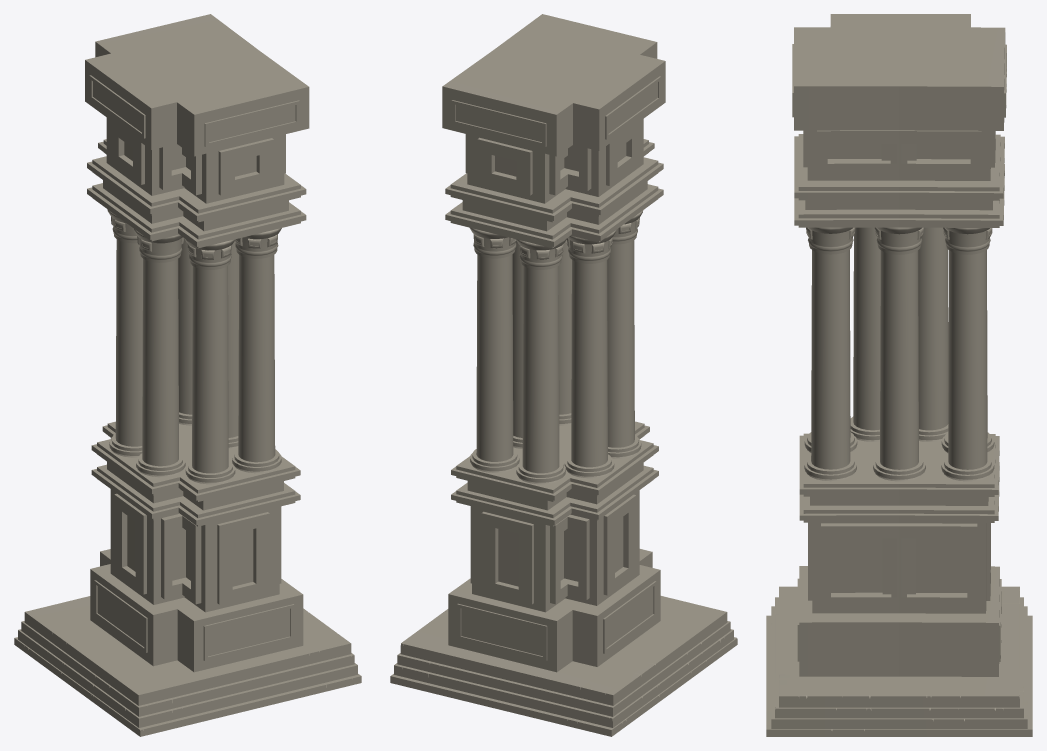
The model's file is Pilar.fbx.
3 renders of one model, left to right at view 1: azimuth 30°, elevation 25°; view 2: azimuth 150°, elevation 25°; view 3: azimuth 270°, elevation 25°, orthographic. The views are drawn at different scales.
Visible parts, largest first — view 1: Pillars.001; view 2: Pillars.001; view 3: Pillars.001.
Boxes of the visible parts, bbox=[...] form: Pillars.001: bbox=[14, 14, 361, 736]; Pillars.001: bbox=[390, 14, 737, 736]; Pillars.001: bbox=[766, 14, 1032, 736].
Size of the model in its own units: 123 by 318 by 122.
